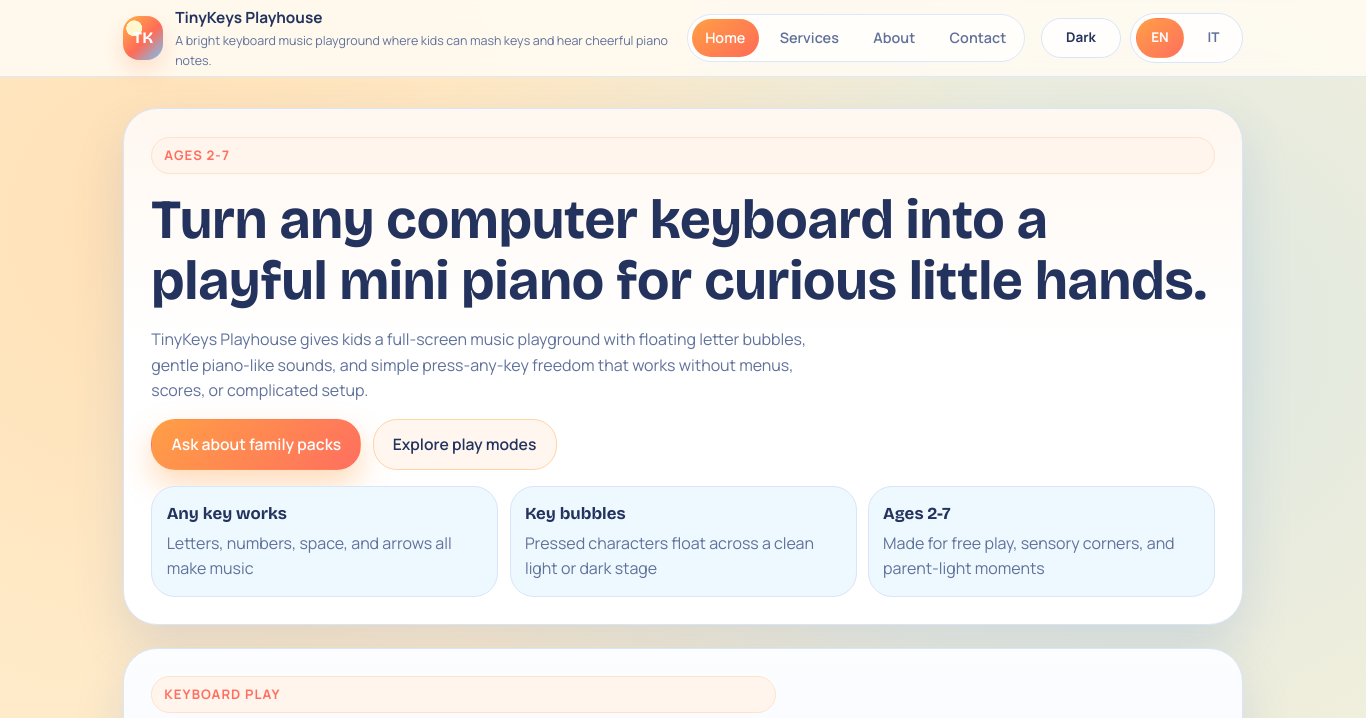
site localization › renders / in Italian after the header toggle
Click the button with aria-label "Switch website to Italian" at (1214, 38), box left=1190, top=18, right=1238, bottom=58
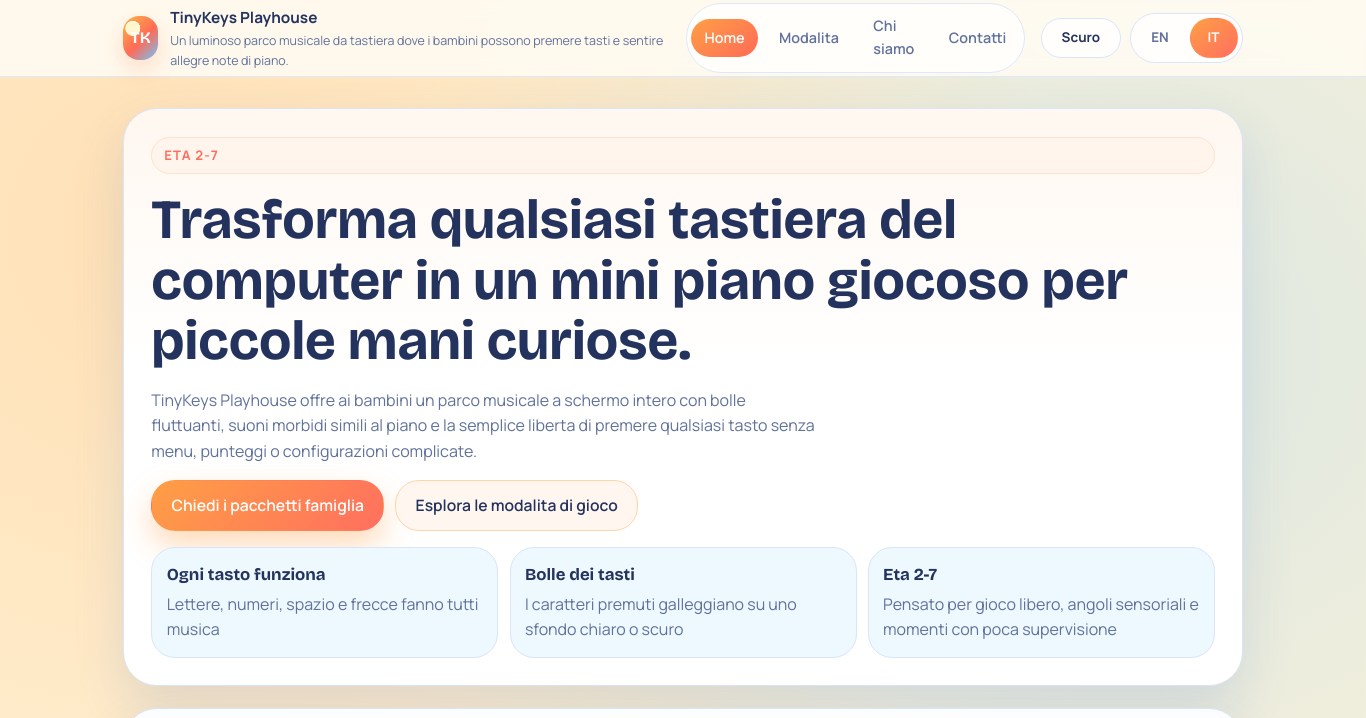
Now the heading named "Trasforma qualsiasi tastiera del computer in un mini piano giocoso per piccole mani curiose." is shown, box left=151, top=190, right=1215, bottom=372
Now the link "Modalita" is shown, box left=779, top=28, right=839, bottom=47
Now the link "Chi siamo" is shown, box left=873, top=16, right=914, bottom=58
